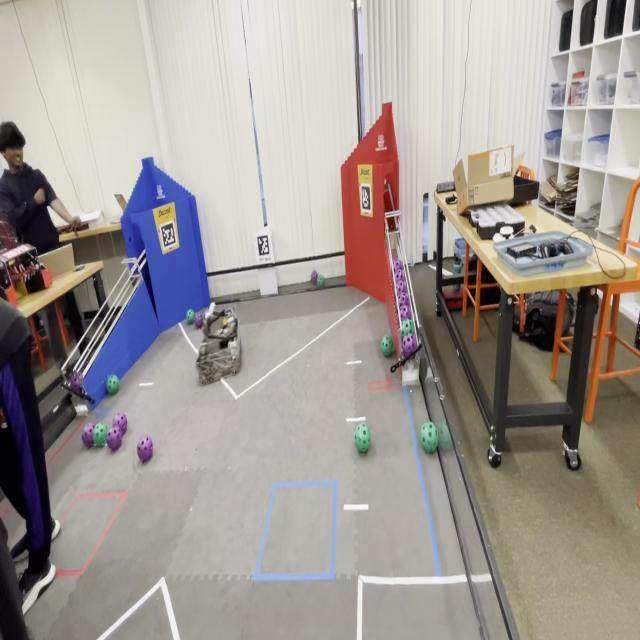artifact_green: (421, 422, 438, 453), (355, 423, 370, 453), (438, 421, 452, 451), (93, 423, 108, 447), (381, 335, 394, 357), (106, 375, 119, 395), (401, 319, 414, 338), (186, 309, 195, 325), (195, 312, 203, 329), (316, 274, 325, 288)
artifact_purple: (137, 436, 152, 463), (107, 427, 122, 451), (81, 423, 95, 448), (69, 370, 83, 394), (402, 334, 417, 356), (112, 414, 127, 435), (400, 305, 411, 321), (396, 280, 406, 295), (194, 312, 203, 328), (398, 293, 408, 307), (310, 270, 318, 286), (395, 270, 405, 281), (394, 259, 402, 270)
